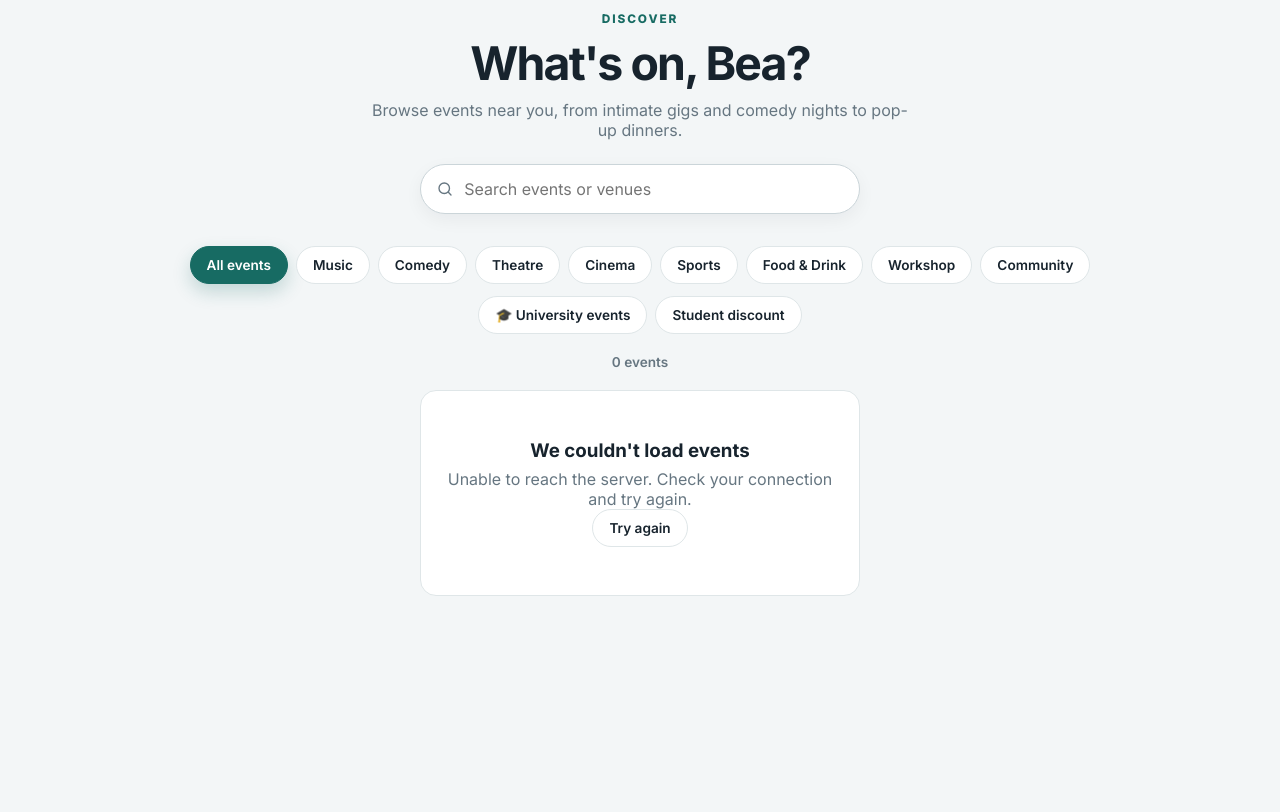
it: BrowseEventsPage loading and errors › shows the error and retries when the request fails
Expected: the message shows "Unable to reach the server", [448,469,832,509]
Click the button "Try again".
click(640, 528)  # box [592,509,688,547]
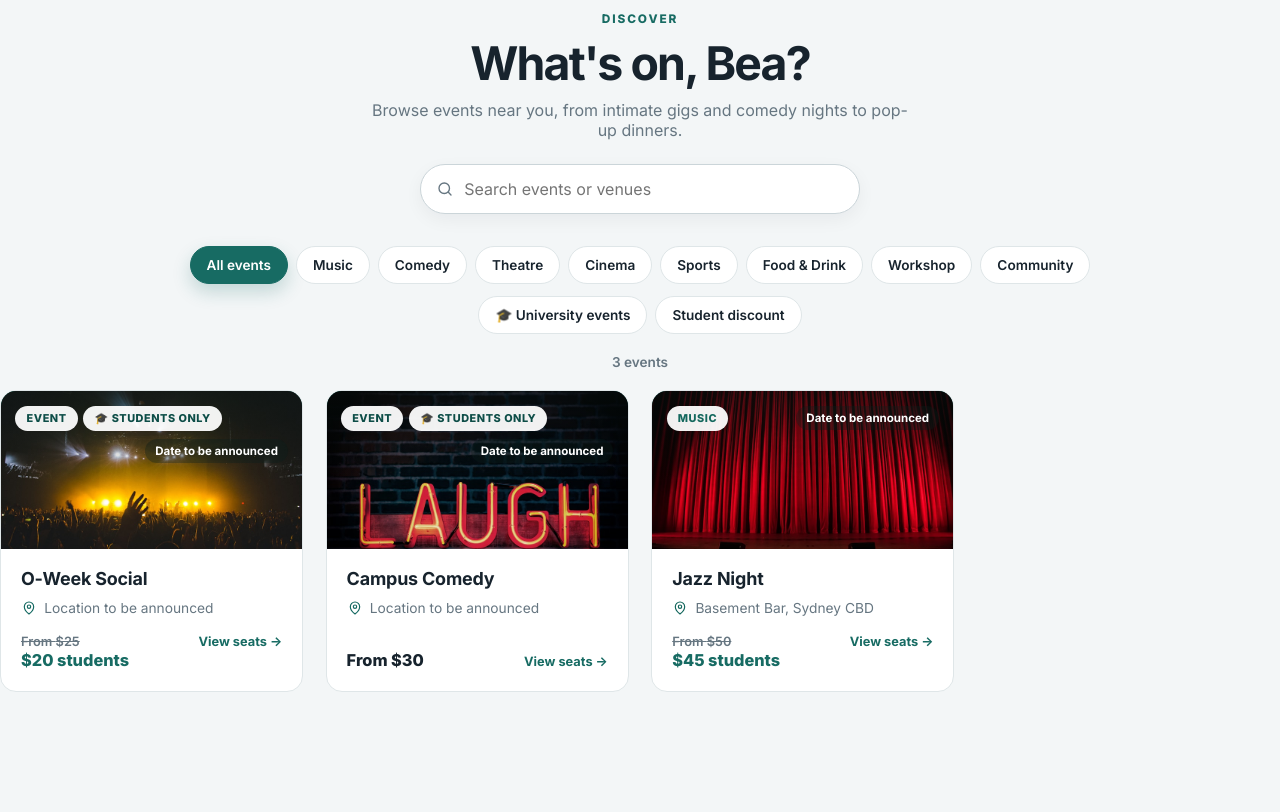
Now the heading "Jazz Night" is shown, box [672,568,764,589]
